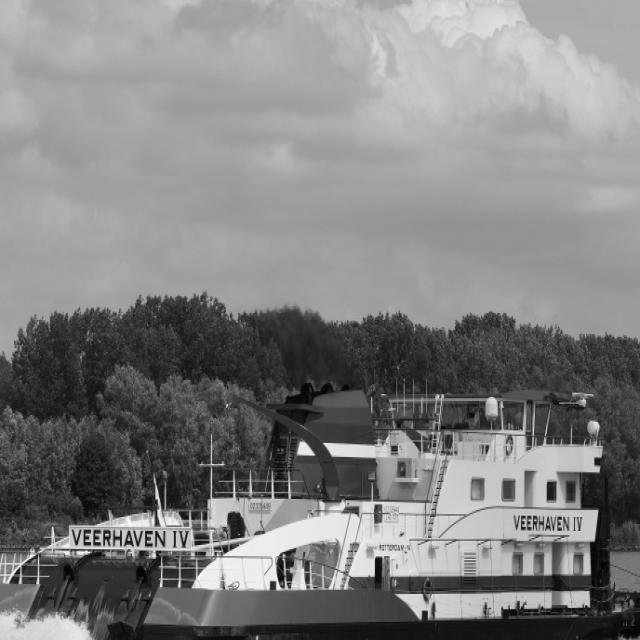tugboat: (1, 364, 640, 640)
